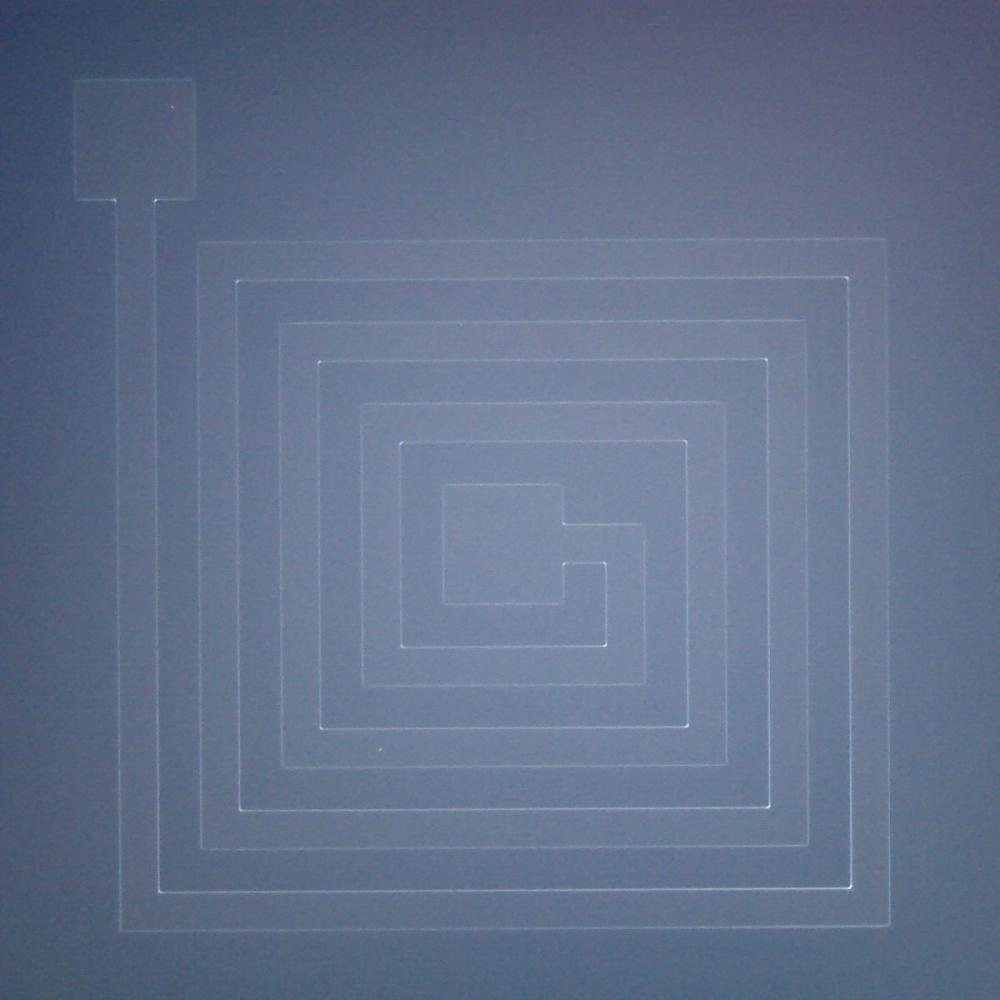dot: (378, 746, 382, 752), (170, 105, 174, 109)
